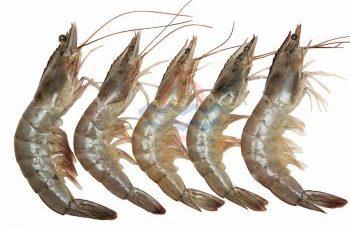White Prawn: (240, 27, 346, 217), (12, 20, 84, 218), (136, 32, 198, 211)
